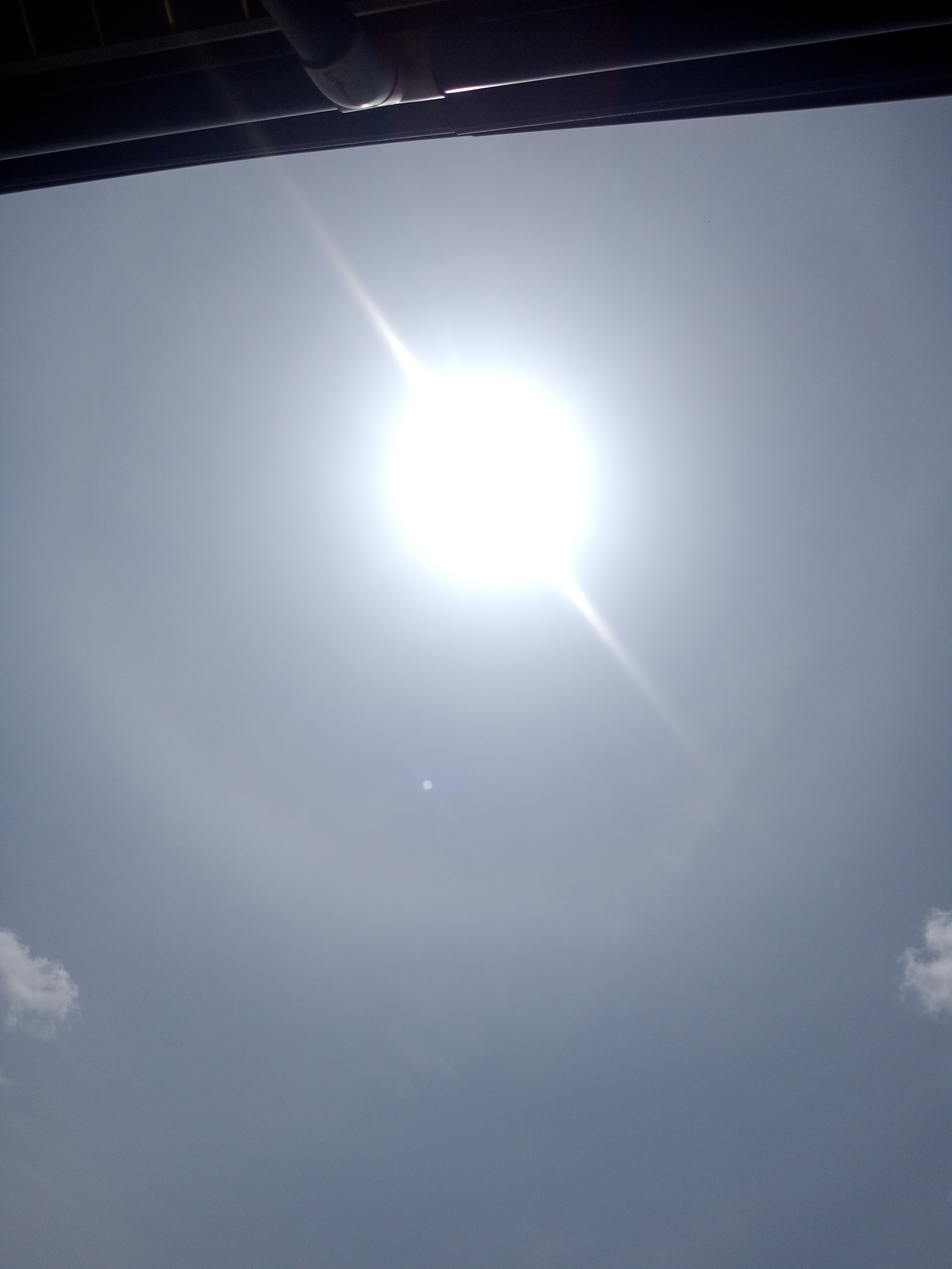sun: (292, 308, 672, 674)
